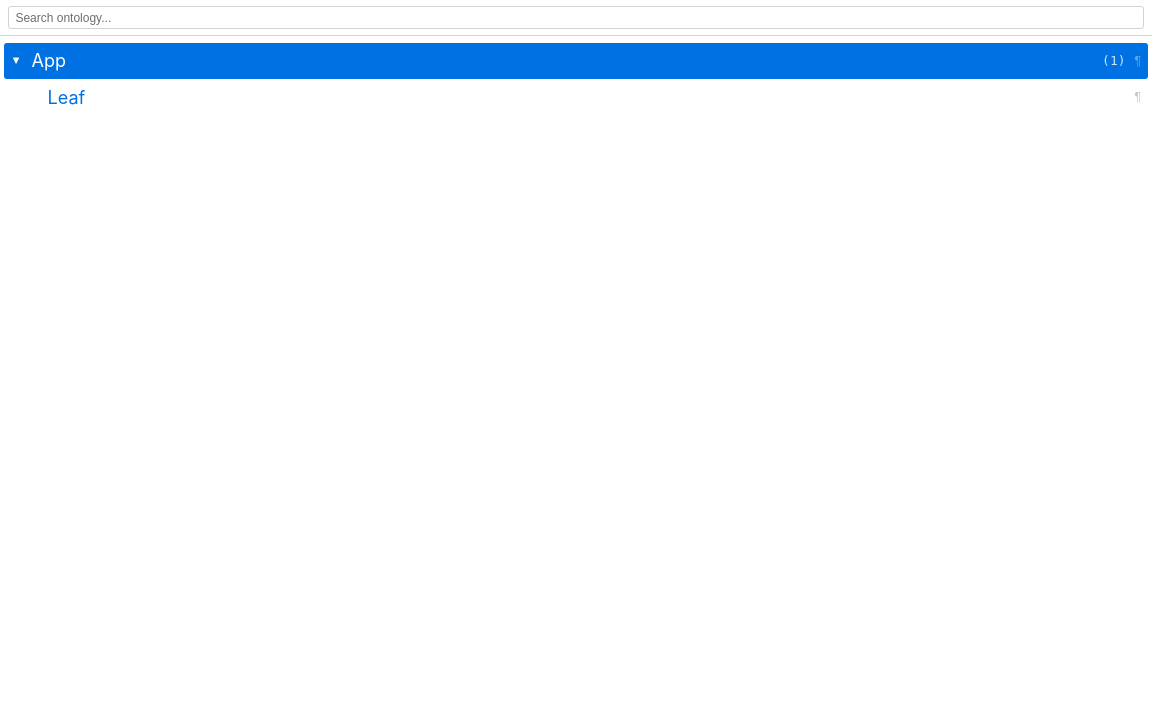
Test case: OntologyTree component › Escape cancels the propose-delete modal
Right-click the element showing "Leaf ¶".
right_click(66, 97)  # box [48,87,1144,108]
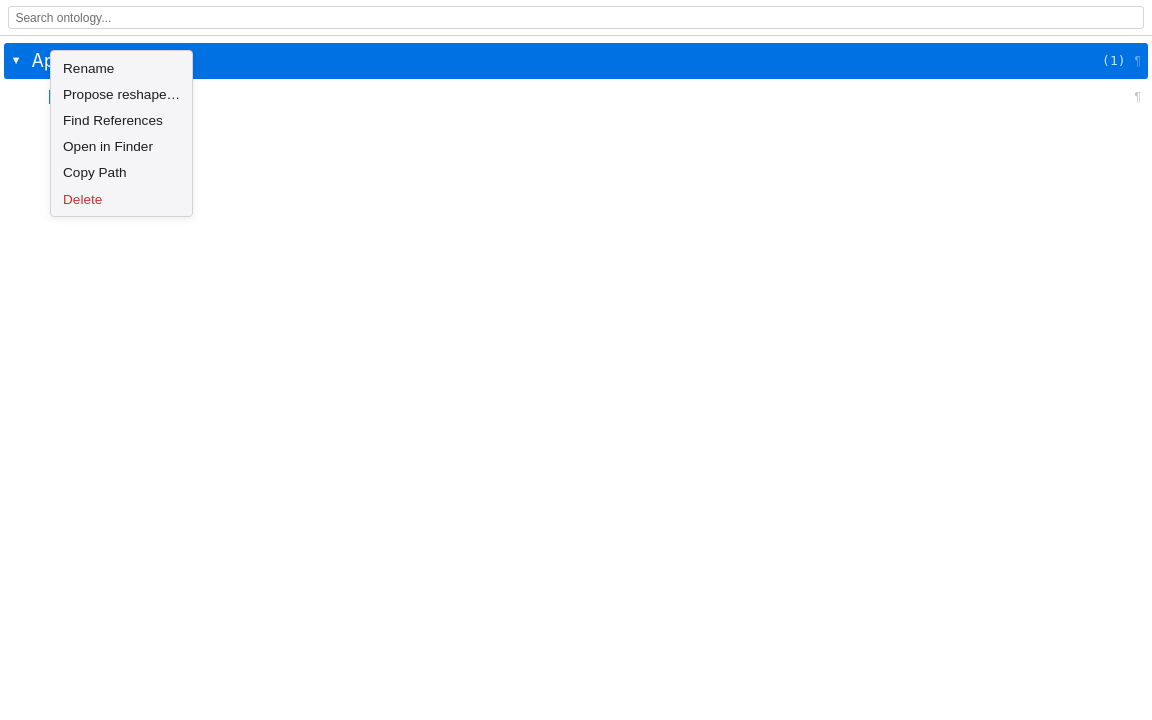
Click the button "Delete".
click(122, 199)  # box [51,186,192,212]
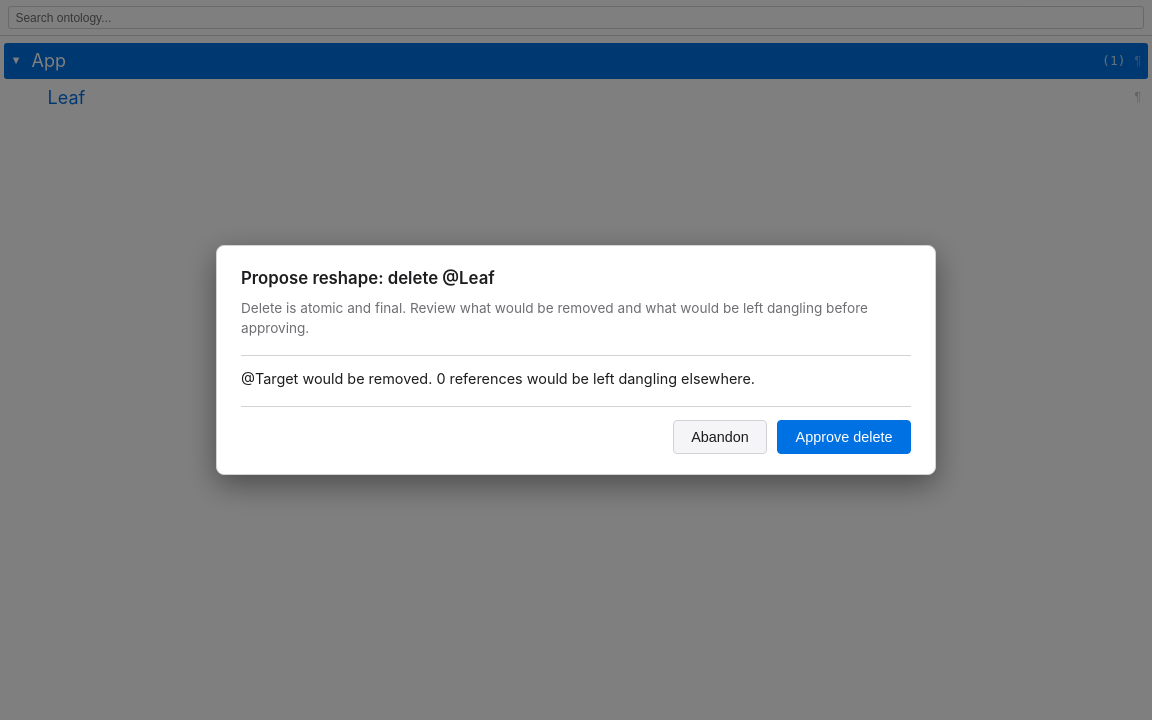
expect the text "Propose reshape: delete @Leaf" is shown: met, box [241,268,495,288]
Press Escape
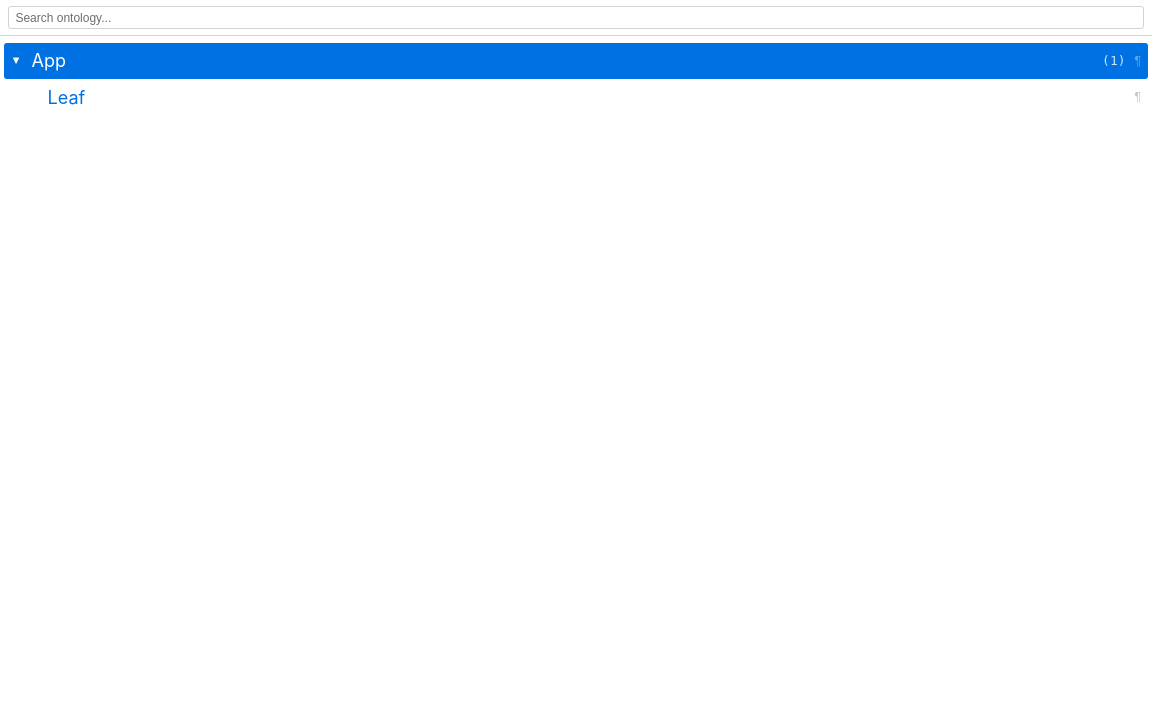
expect the text "Propose reshape: delete @Leaf" is gone: met
